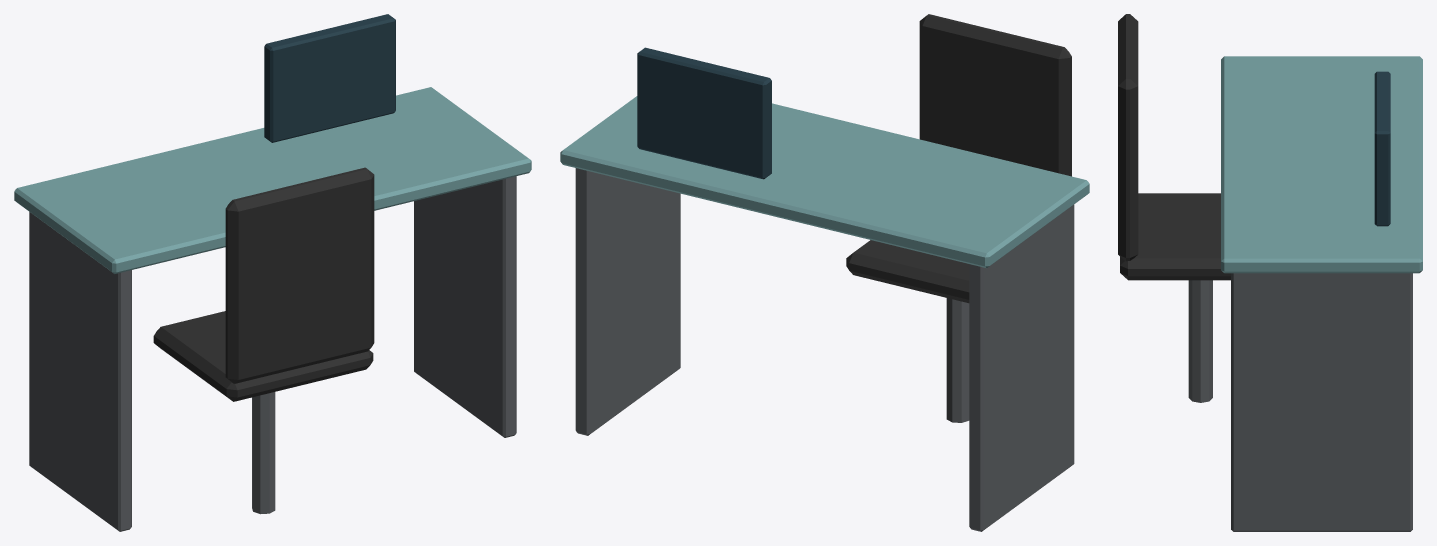
Rendered from desk_chair.glb.
3 renders of one model, left to right at view 1: azimuth 30°, elevation 25°; view 2: azimuth 150°, elevation 25°; view 3: azimuth 270°, elevation 25°, orthographic. The views are drawn at different scales.
Visible parts, largest first — view 1: desk_chair; view 2: desk_chair; view 3: desk_chair.
Boxes of the visible parts, box(x1,y1,x2,y2) form: desk_chair: box(14, 14, 531, 531); desk_chair: box(560, 14, 1089, 531); desk_chair: box(1118, 14, 1422, 531).
Bounding box in the file's own units: 1.2 × 1.03 × 0.755.
